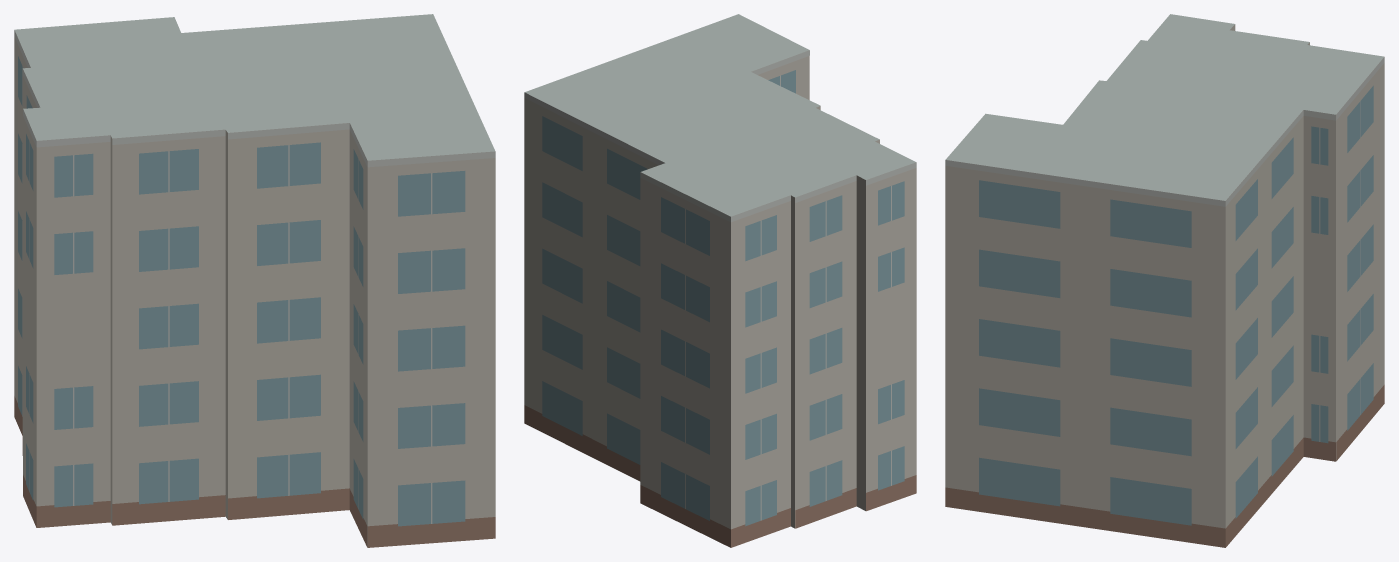
Rendered from survey-upis-32942183.glb.
3 renders of one model, left to right at view 1: azimuth 30°, elevation 25°; view 2: azimuth 150°, elevation 25°; view 3: azimuth 270°, elevation 25°, orthographic. The views are drawn at different scales.
Visible parts, largest first — view 1: survey-upis-32942183.tmp; view 2: survey-upis-32942183.tmp; view 3: survey-upis-32942183.tmp.
Boxes of the visible parts, x1,y1,x2,y2 form: survey-upis-32942183.tmp: (14, 14, 495, 547); survey-upis-32942183.tmp: (524, 14, 916, 547); survey-upis-32942183.tmp: (945, 14, 1384, 547).
Bounding box in the file's own units: 16.65 × 14.4 × 16.53.
